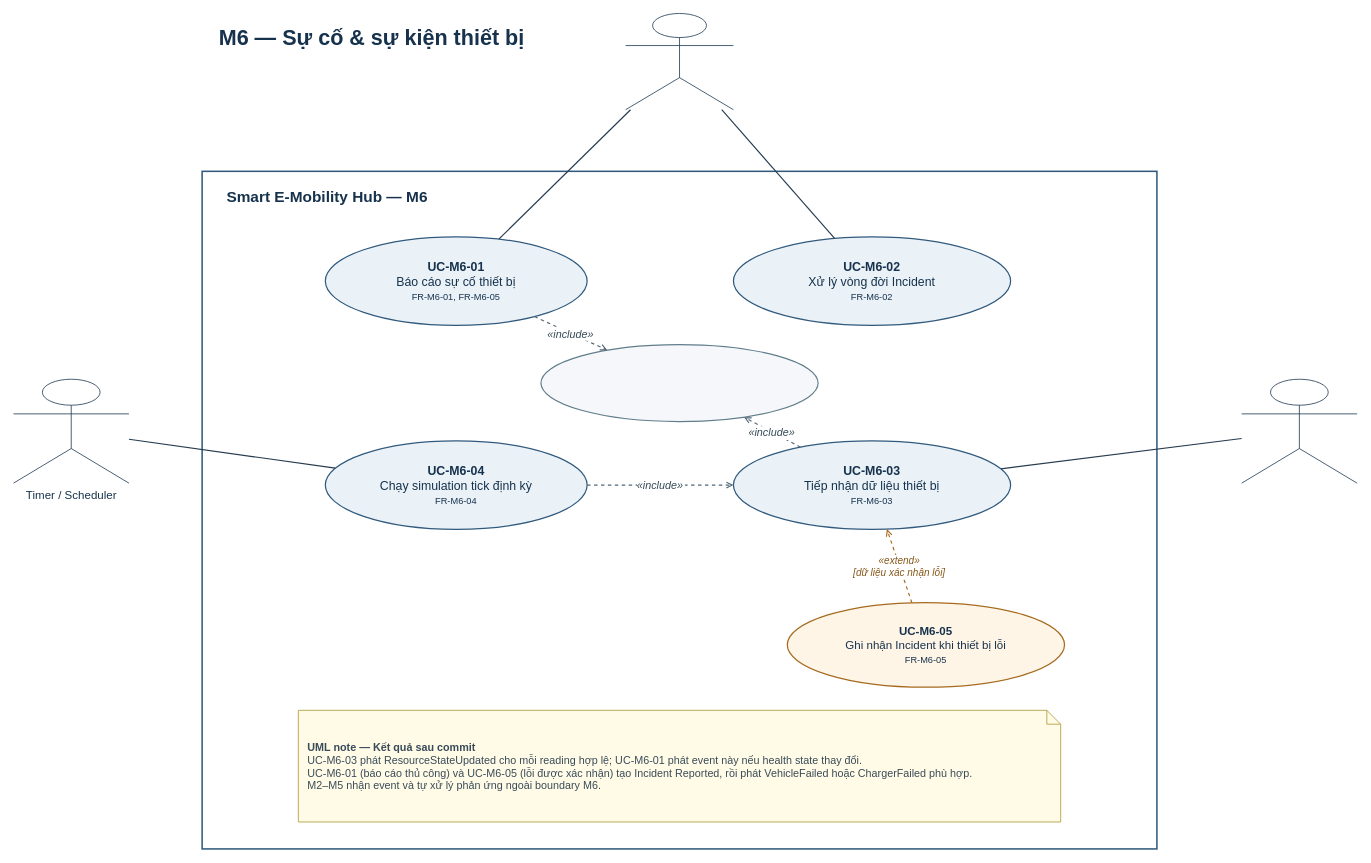
Image size: 1371x863. Some labels were removed from this diagram. The centre of each missing label's shape, as x and y in pixels:
"Kiểm tra payload và tài nguyên" belongs at (679,383).
"Nhà vận hành (Operator)" belongs at (679,61).
"Sensor / Simulator" belongs at (1299,430).
